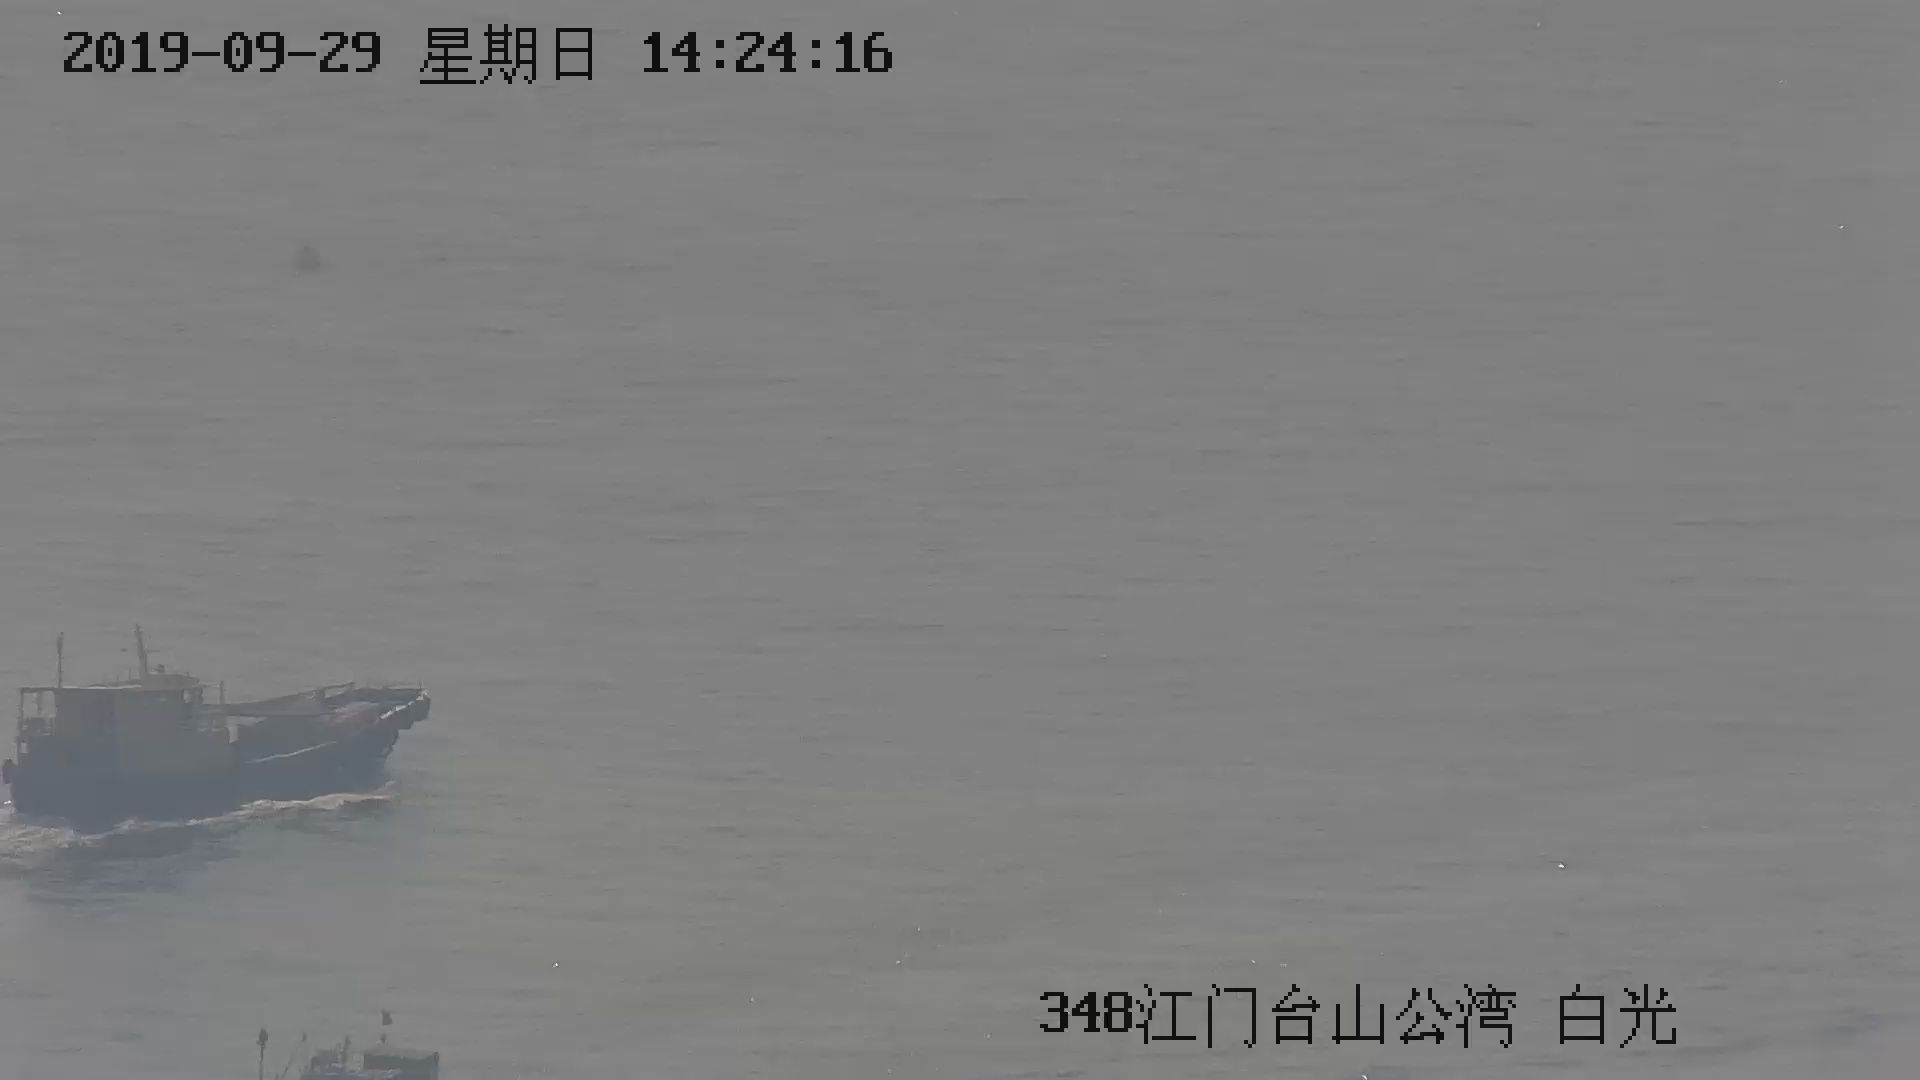ship: (4, 618, 436, 843)
